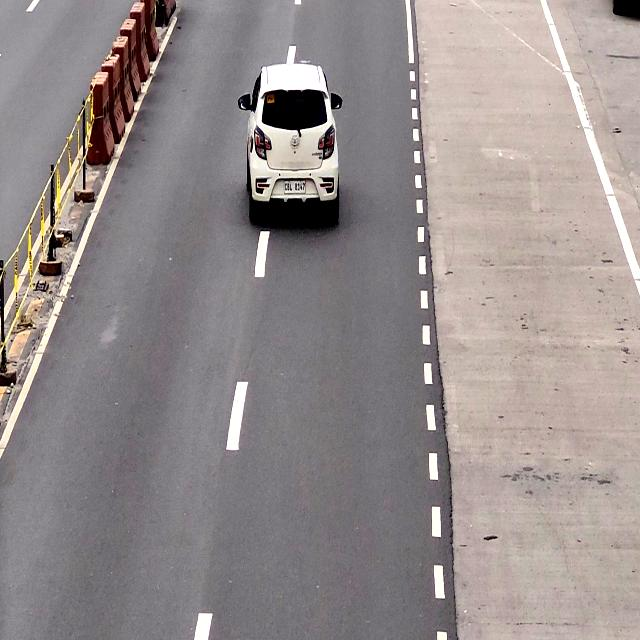Car: (243, 67, 339, 223)
License-Plate: (284, 179, 306, 194)
